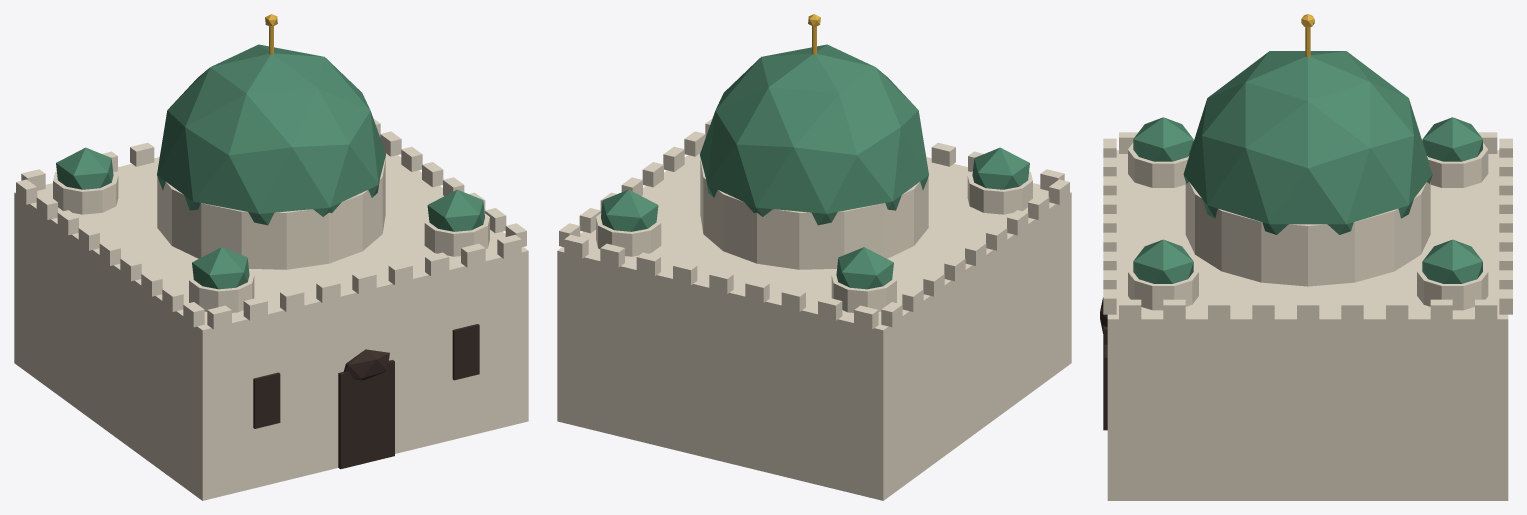
Rendered from moske.glb.
3 views of the same model, side by side, from view 1: azimuth 30°, elevation 25°; view 2: azimuth 150°, elevation 25°; view 3: azimuth 270°, elevation 25° (orthographic). The views are drawn at different scales.
Visible parts, largest first — view 1: moske; view 2: moske; view 3: moske.
Boxes of the visible parts, x1,y1,x2,y2 form: moske: [14, 14, 528, 500]; moske: [557, 14, 1071, 500]; moske: [1100, 14, 1512, 500].
Size of the model in its own units: 18.4 by 19.95 by 18.54.
